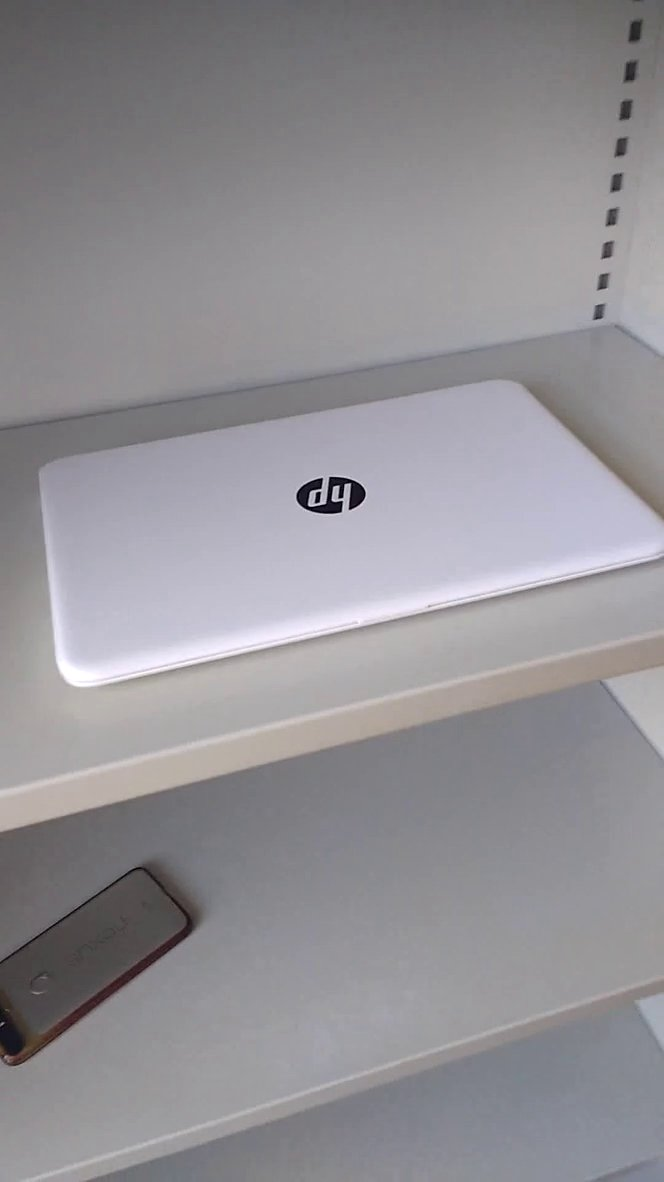laptop: (31, 364, 664, 716)
phone: (1, 847, 204, 1078)
